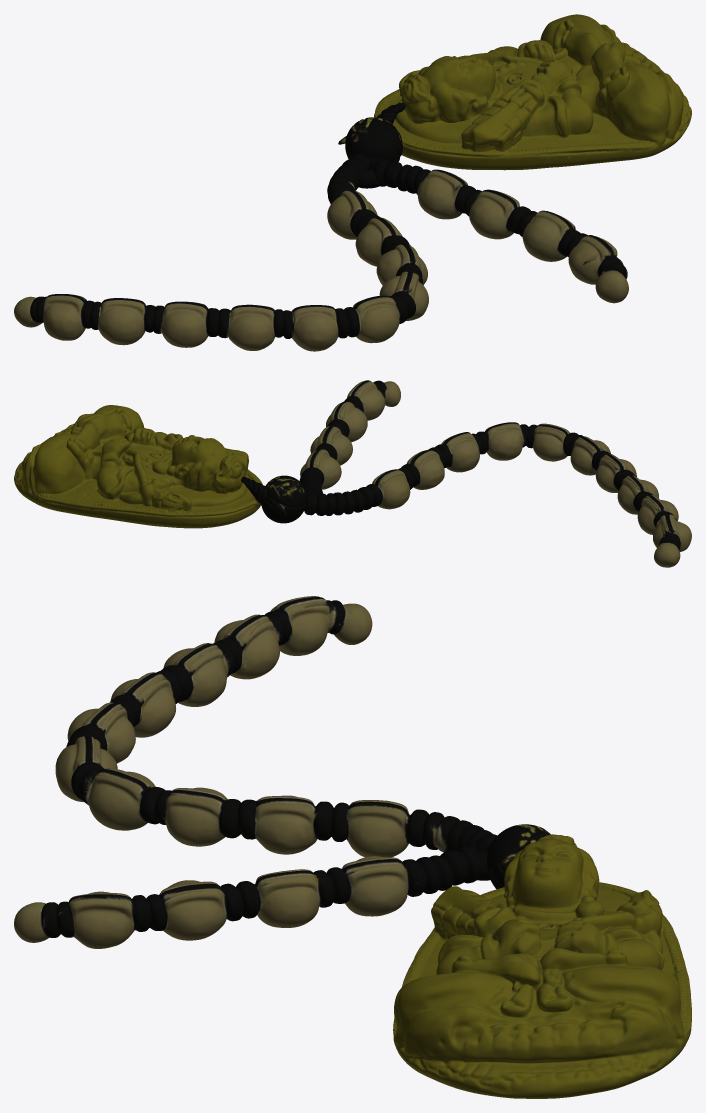
Rendered from buddha-pendant.glb.
3 views of the same model, one above another, from view 1: azimuth 30°, elevation 25°; view 2: azimuth 150°, elevation 25°; view 3: azimuth 270°, elevation 25° (orthographic). The views are drawn at different scales.
Visible parts, largest first — view 1: tripo_node_4bdec264-b93b-4b6e-8689-603e5d6d990b; view 2: tripo_node_4bdec264-b93b-4b6e-8689-603e5d6d990b; view 3: tripo_node_4bdec264-b93b-4b6e-8689-603e5d6d990b.
Boxes of the visible parts, <box> form: tripo_node_4bdec264-b93b-4b6e-8689-603e5d6d990b: <box>14,14,691,351</box>; tripo_node_4bdec264-b93b-4b6e-8689-603e5d6d990b: <box>14,380,691,567</box>; tripo_node_4bdec264-b93b-4b6e-8689-603e5d6d990b: <box>14,596,691,1098</box>.
Bounding box in the file's own units: 0.9802 × 0.1189 × 0.5953.
Materials: 1 (1 with a texture image).
